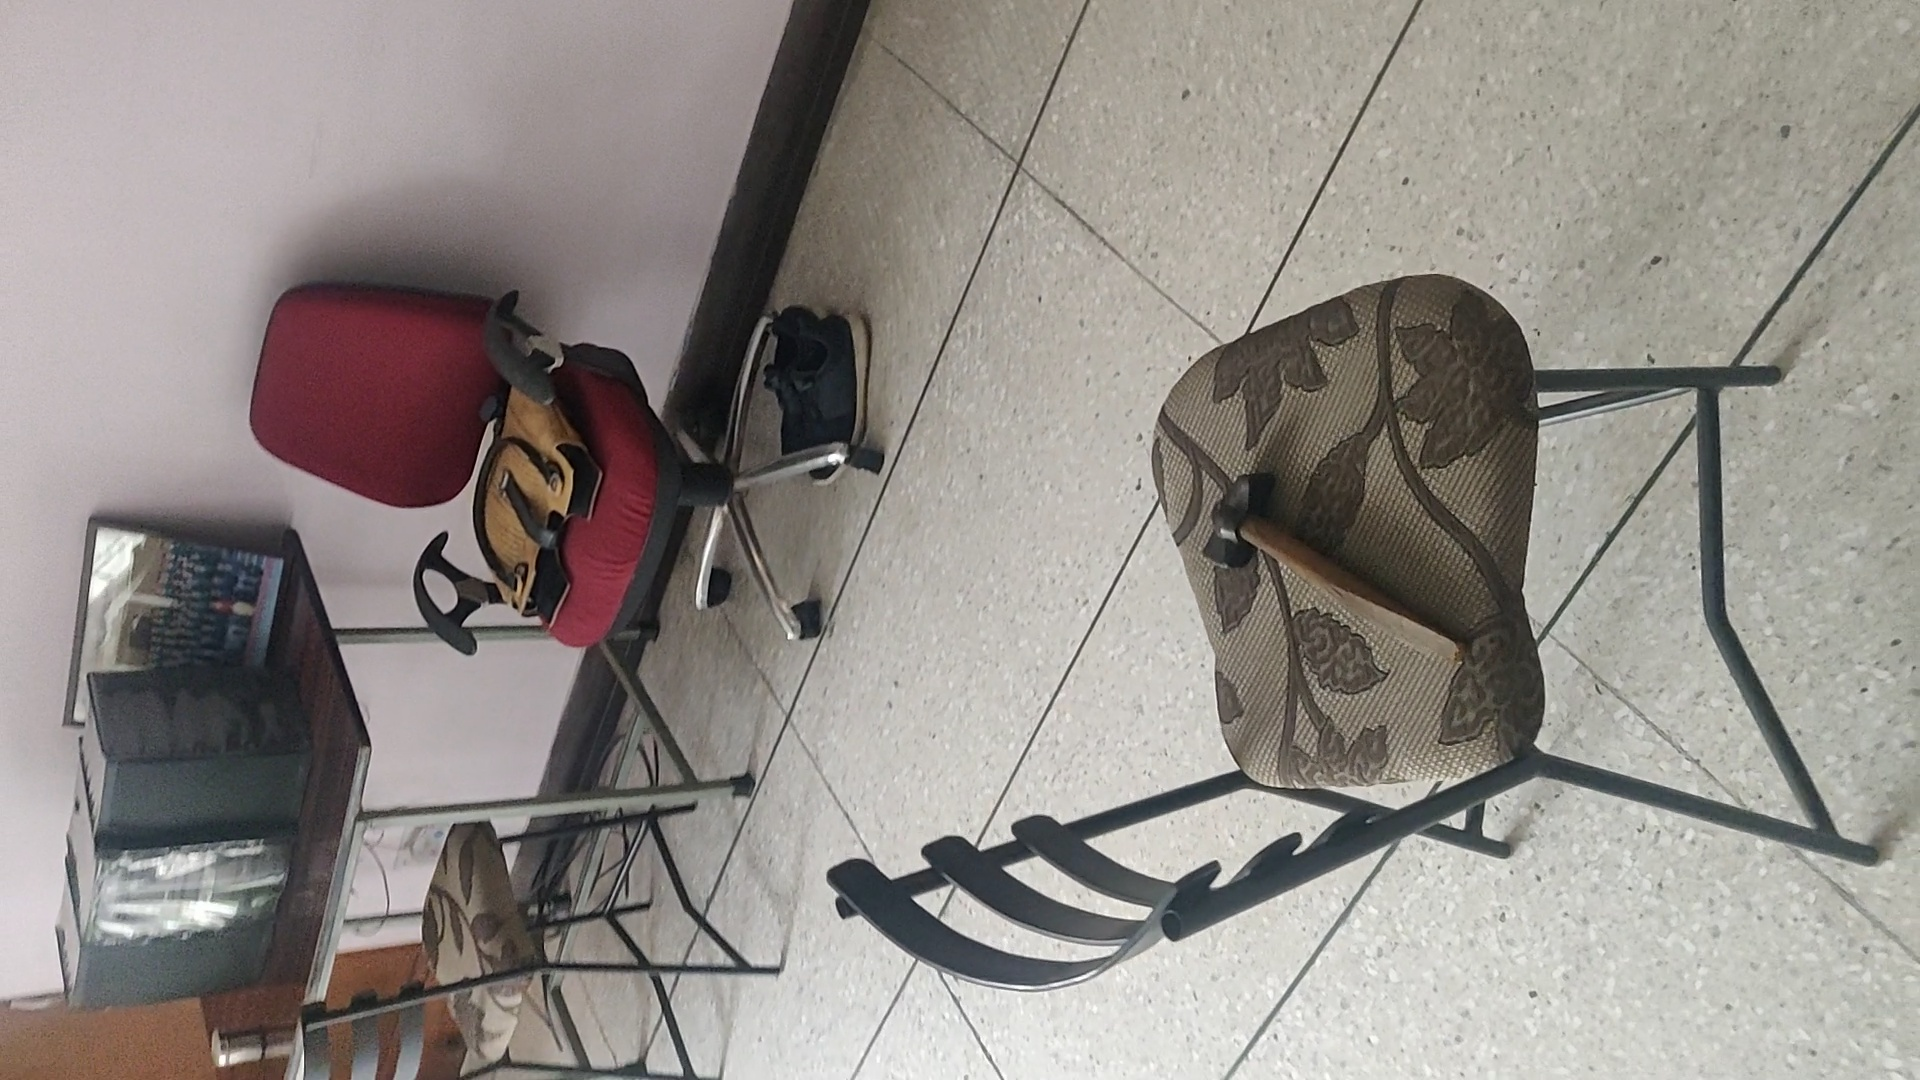hammer: (1200, 472, 1462, 671)
